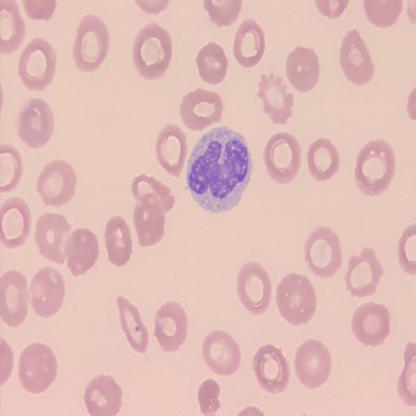Monocyte: (183, 123, 256, 214)
